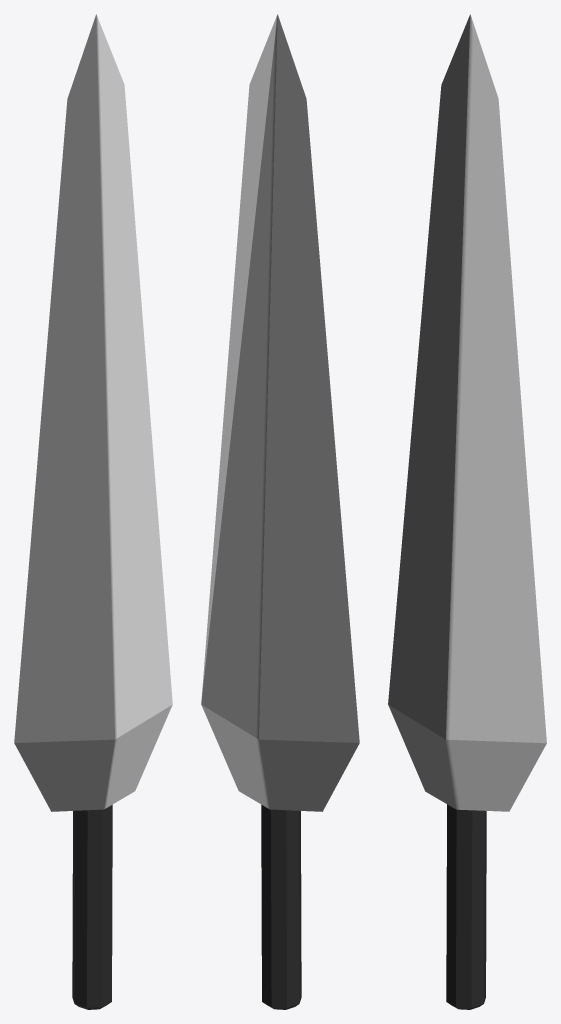
The model's file is kienlon.fbx.
The picture shows the model from 3 angles, left to right: view 1: azimuth 30°, elevation 25°; view 2: azimuth 150°, elevation 25°; view 3: azimuth 330°, elevation 25°; orthographic projection.
Parts seen in each view (by area): view 1: kiemlon; view 2: kiemlon; view 3: kiemlon.
Boxes of the visible parts, bbox=[...] form: kiemlon: bbox=[14, 14, 172, 1009]; kiemlon: bbox=[201, 14, 359, 1009]; kiemlon: bbox=[388, 14, 546, 1009].
Size of the model in its own units: 1.02 by 6.07 by 0.4802.
